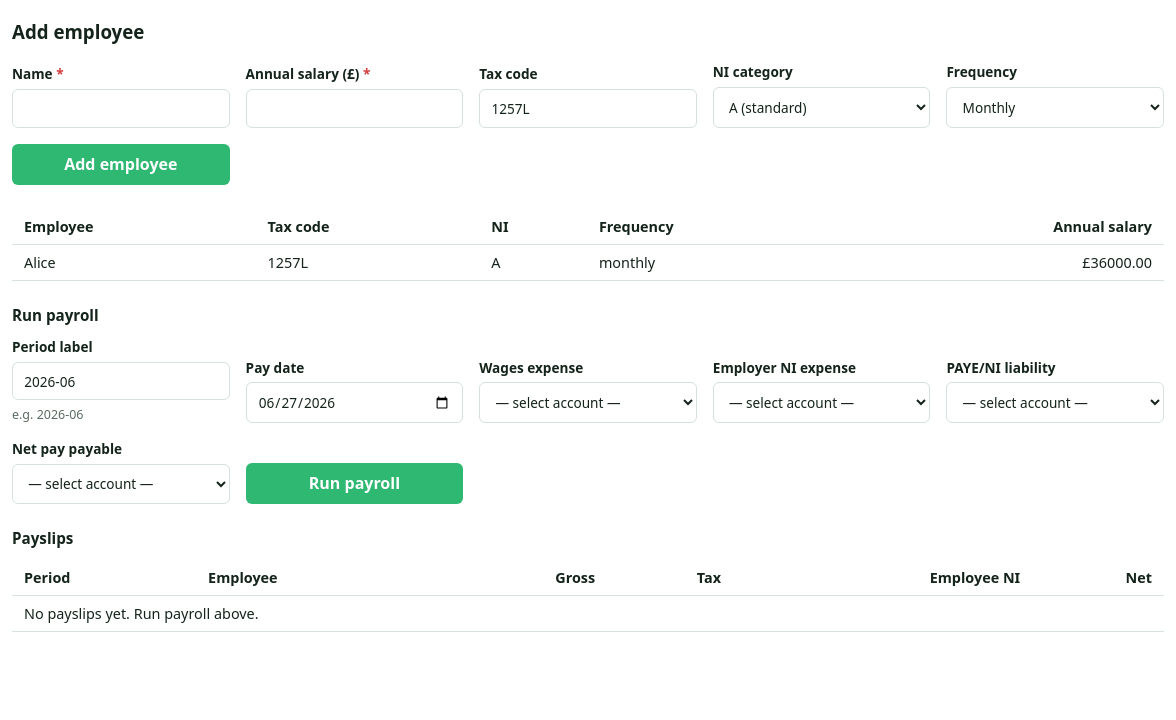
it: PayrollScreen › lists employees and runs payroll, showing the payslip breakdown
The image size is (1176, 720).
Expected: the text "Alice" is shown, [12, 245, 256, 281]
Note: Choose the four GL accounts then run.
Select "7000 · Wages" in the dropdown labelled "Wages expense": {"x": 588, "y": 403} [479, 382, 697, 423]
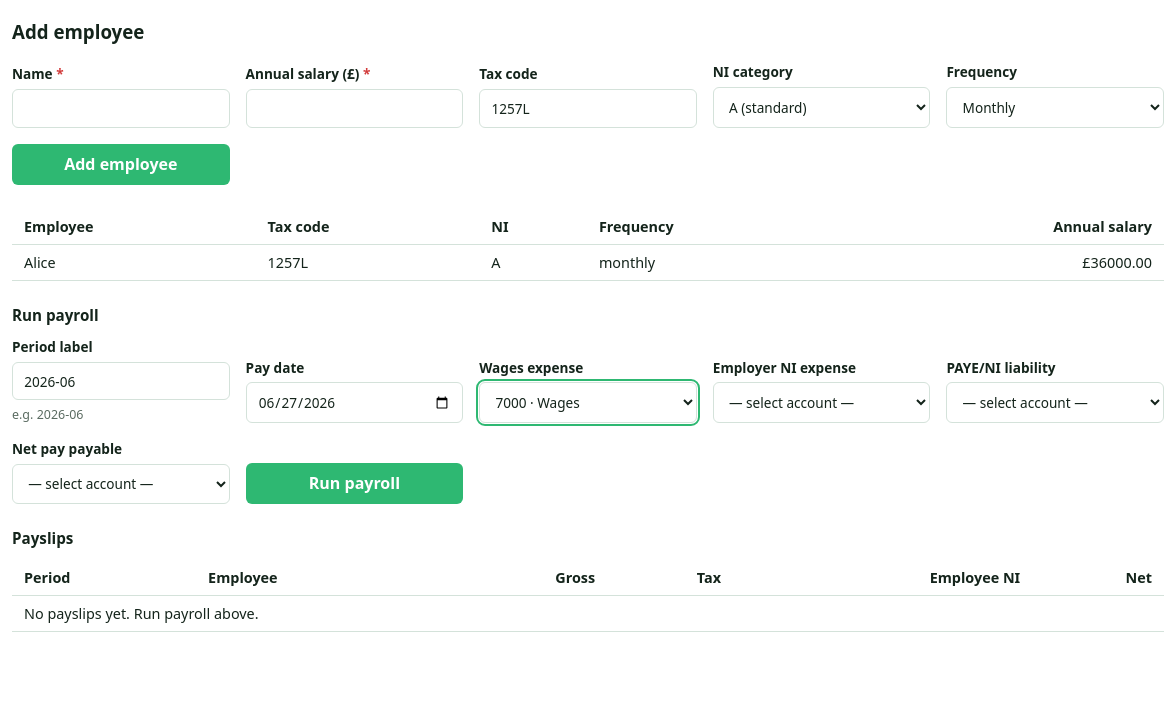
Select "7010 · Employer NI" in the dropdown labelled "Employer NI expense": {"x": 822, "y": 403} [713, 382, 930, 423]
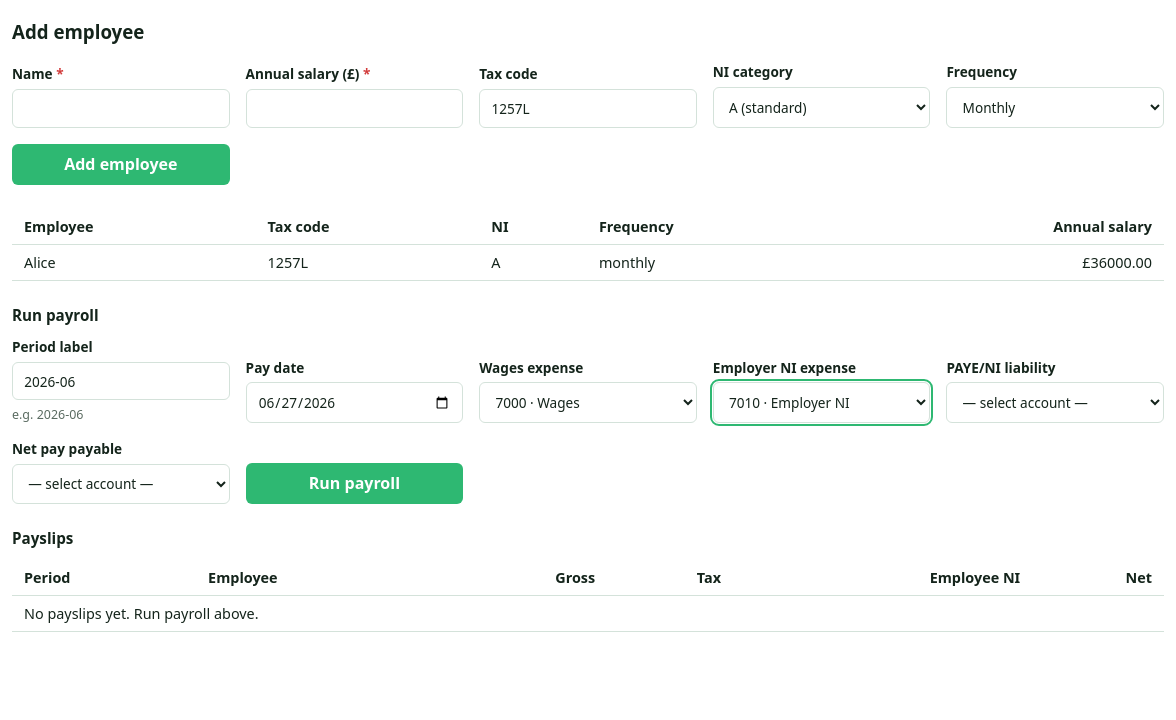
Select "2210 · PAYE liability" in the dropdown labelled "PAYE/NI liability": {"x": 1055, "y": 403} [946, 382, 1164, 423]
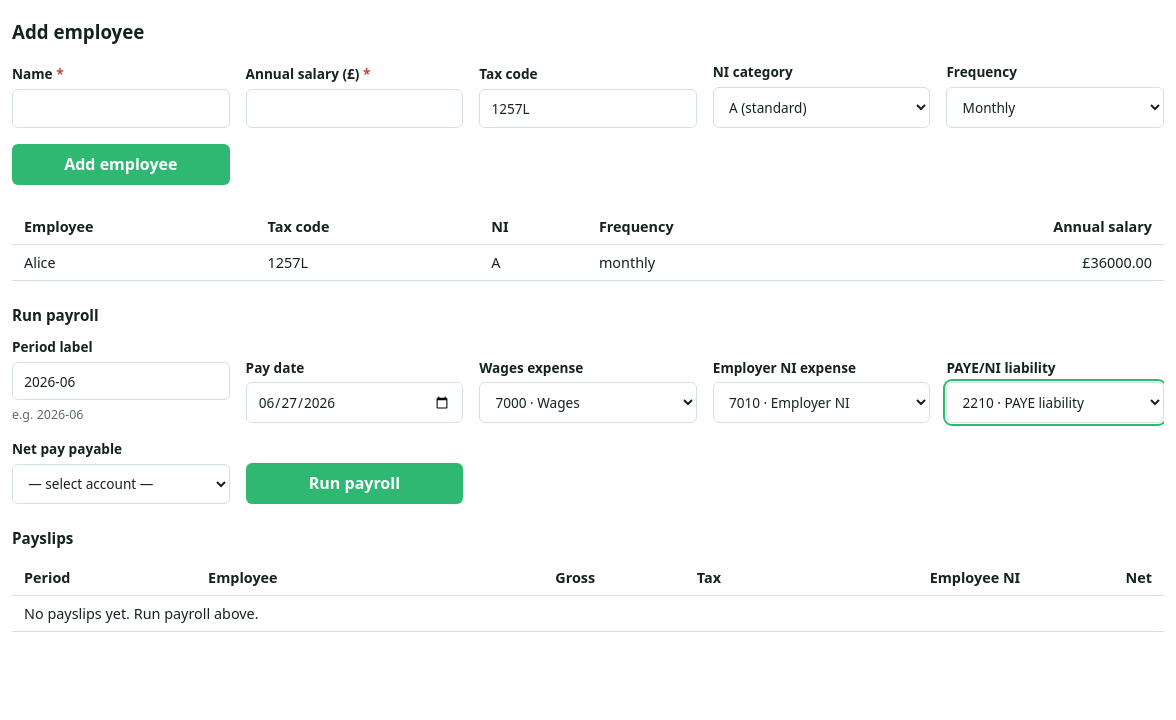
Select "2220 · Net pay" in the dropdown labelled "Net pay payable": {"x": 121, "y": 484} [12, 464, 230, 504]
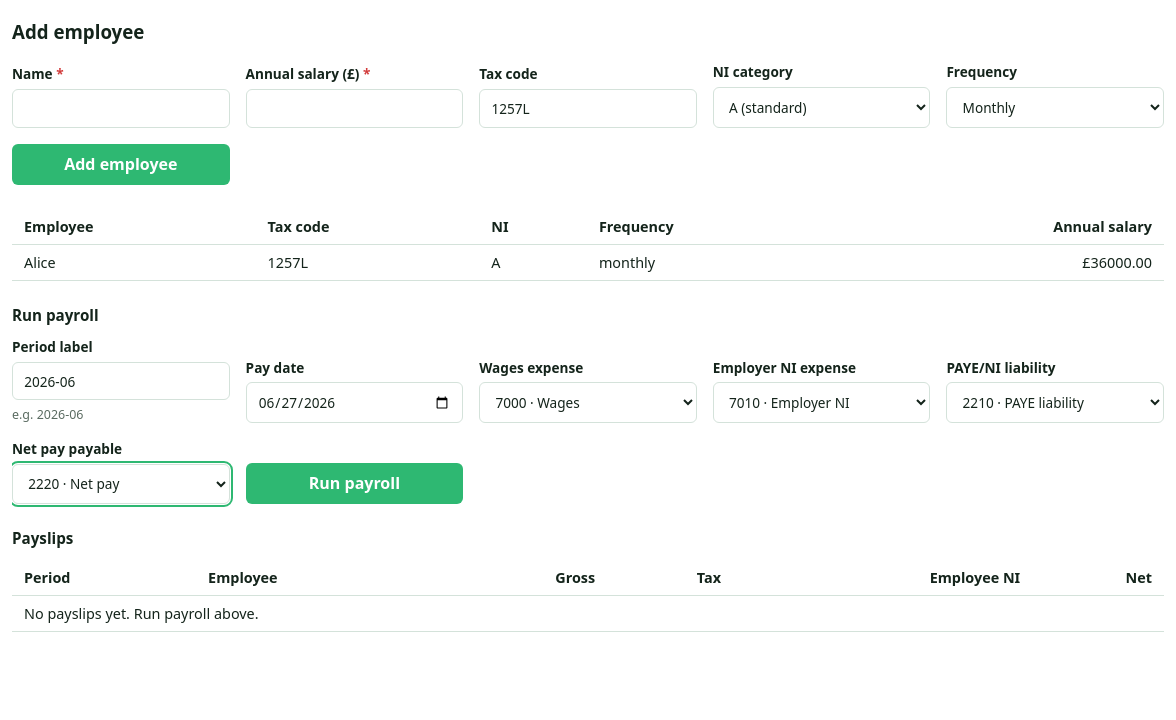
Click the button "Run payroll": {"x": 354, "y": 483} [246, 463, 463, 504]
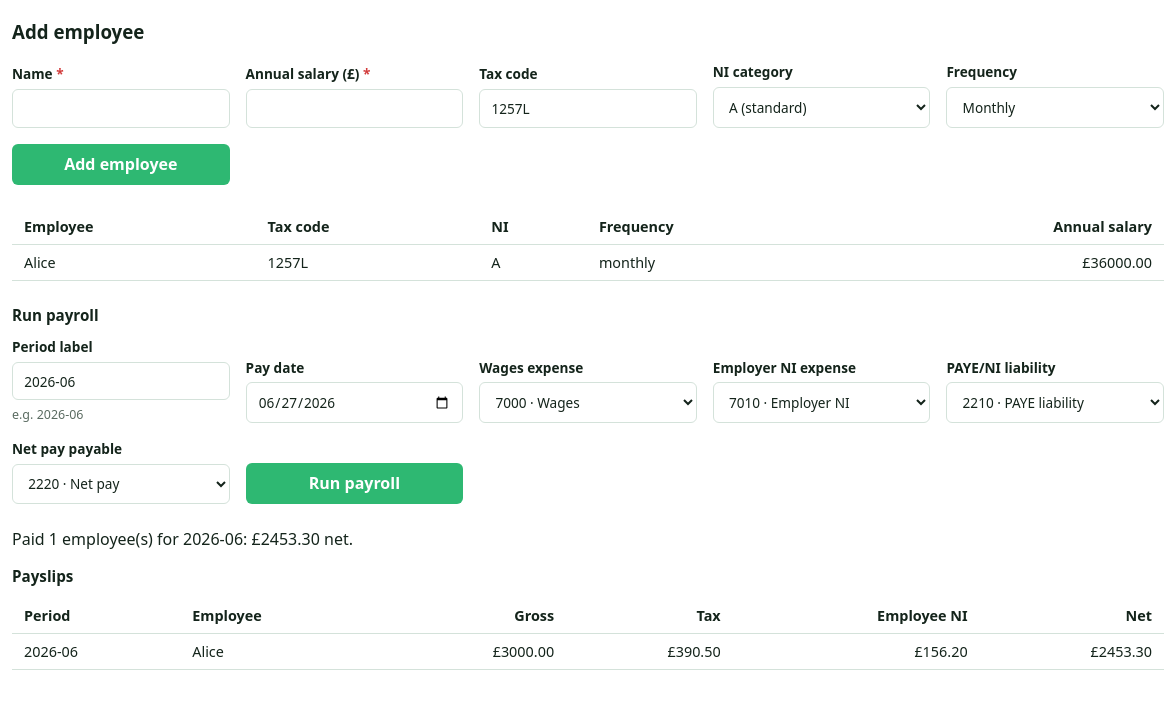
Result: the text "Paid 1 employee(s) for 2026-06: £2453.30 net." is shown at [12, 528, 353, 550]
Result: the text "£390.50" is shown at [566, 634, 733, 670]
Result: the text "£156.20" is shown at [733, 634, 980, 670]
